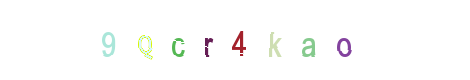4: (195, 0, 275, 80)
9: (101, 0, 181, 80)
A: (254, 0, 334, 80)
C: (137, 0, 217, 80)
K: (213, 0, 293, 80)
O: (293, 0, 373, 80)
Q: (105, 0, 185, 80)
R: (188, 0, 268, 80)
